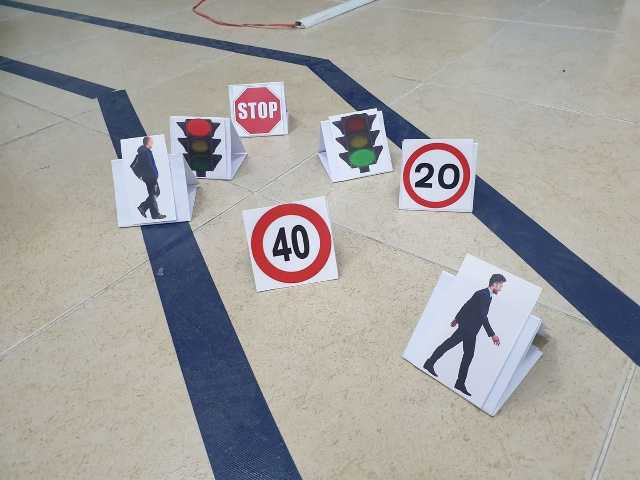Green: (328, 113, 383, 172)
Limit 20: (403, 142, 469, 208)
Limit 40: (249, 207, 333, 281)
Person: (428, 266, 506, 409), (120, 136, 172, 224)
Red: (180, 116, 224, 181)
Stop: (229, 83, 284, 134)
